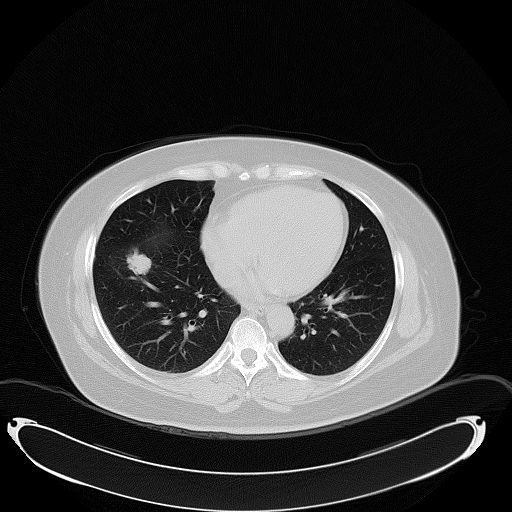nodule: (125, 249, 152, 275)
